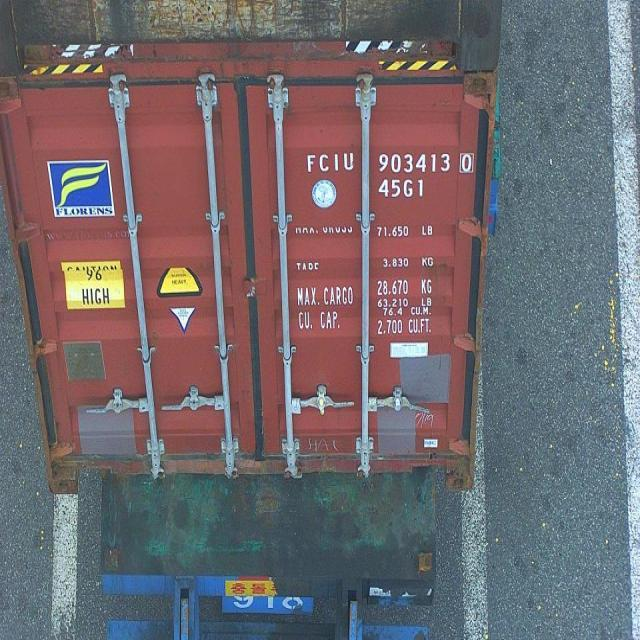ISO: (379, 178, 425, 198)
container_number: (312, 150, 476, 175)
